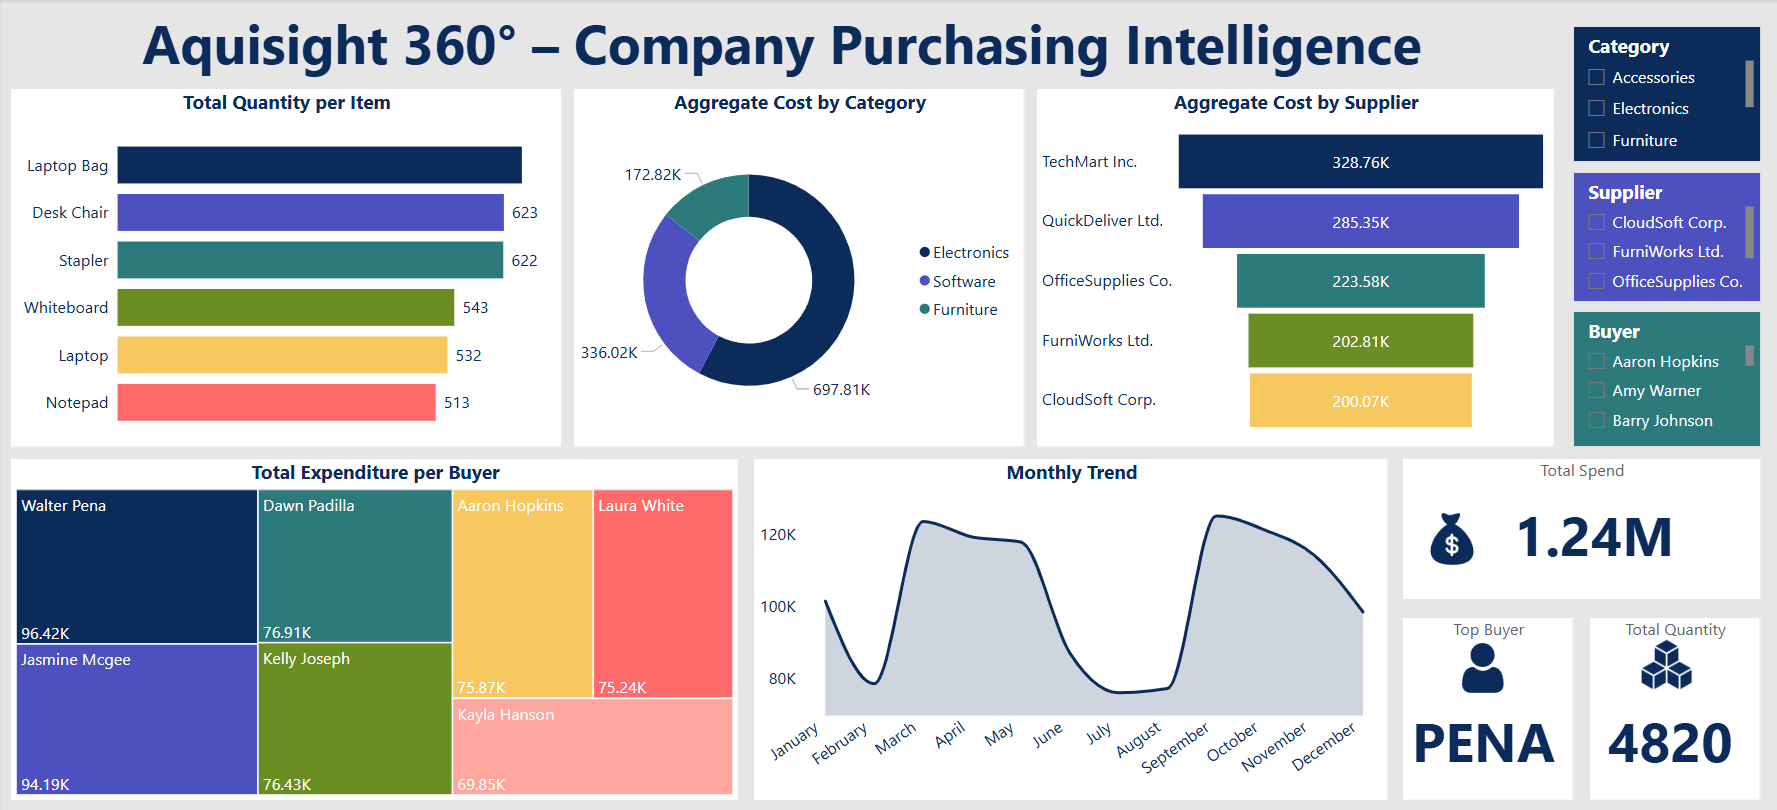

What the dashboard file says about the page in this screenshot:
{"tool":"powerbi","page":{"name":"Dasboard","canvas":[1750,800],"ordinal":0},"visuals":[{"type":"textbox","box":[9.3,0,1521.3,98.4],"z":0},{"type":"treemap","title":"Total Expenditure per Buyer","fields":{"Group":["spend_analysis_dataset.Buyer"],"Values":["spend_analysis_dataset.TotalCost"]},"box":[8.9,452.3,718.3,338],"z":1000},{"type":"barChart","title":"Total Quantity per Item","fields":{"Category":["spend_analysis_dataset.ItemName"],"Y":["spend_analysis_dataset.Quantity"]},"box":[8.9,87.7,543.9,353.7],"z":2000},{"type":"funnel","title":"Aggregate Cost by Supplier","fields":{"Category":["spend_analysis_dataset.Supplier"],"Y":["spend_analysis_dataset.TotalCost"]},"box":[1019.9,87.8,510.6,353.7],"z":3000},{"type":"donutChart","title":"Aggregate Cost by Category","fields":{"Category":["spend_analysis_dataset.Category"],"Y":["spend_analysis_dataset.TotalCost"]},"box":[563.8,87.8,445.5,353.7],"z":4000},{"type":"lineChart","title":"Monthly Trend","fields":{"Category":["spend_analysis_dataset.PurchaseDate.Variation.Date Hierarchy.Month"],"Y":["spend_analysis_dataset.TotalCost"]},"box":[740.7,452.1,626.3,337.8],"z":5000},{"type":"slicer","fields":{"Values":["spend_analysis_dataset.Category"]},"box":[1549.2,26.6,184.8,134.3],"z":6000},{"type":"slicer","fields":{"Values":["spend_analysis_dataset.Supplier"]},"box":[1549.2,170.2,184.8,127.7],"z":7000},{"type":"slicer","fields":{"Values":["spend_analysis_dataset.Buyer"]},"box":[1549.2,307.2,184.8,134.3],"z":8000},{"type":"textbox","title":"Total Spend","box":[1380.3,452.1,353.7,139.6],"z":9000},{"type":"textbox","title":"Top Buyer","box":[1380.3,609,168.9,180.9],"z":10000},{"type":"textbox","title":"Total Quantity","box":[1565.2,609,168.9,180.9],"z":11000},{"type":"image","box":[1393.9,501.2,70.8,61.3],"z":12000},{"type":"textbox","box":[1485.8,485.8,185.1,90.8],"z":13000},{"type":"textbox","box":[1385.6,688.7,163.9,90.8],"z":14000},{"type":"image","box":[1434,629.7,60.1,59],"z":15000},{"type":"textbox","box":[1579,688.7,148.6,90.8],"z":16000},{"type":"image","box":[1600.2,622.6,81.4,66],"z":17000}]}

Visuals, with their boxes in screenshot pixels (x1, y1, x2, y2), scaled from the page's 1750x800 canvas onto the 1777x810 screenshot:
textbox: 9, 0, 1554, 100
"Total Expenditure per Buyer" treemap: 9, 458, 738, 800
"Total Quantity per Item" barChart: 9, 89, 561, 447
"Aggregate Cost by Supplier" funnel: 1036, 89, 1554, 447
"Aggregate Cost by Category" donutChart: 572, 89, 1025, 447
"Monthly Trend" lineChart: 752, 458, 1388, 800
slicer - spend_analysis_dataset.Category: 1573, 27, 1761, 163
slicer - spend_analysis_dataset.Supplier: 1573, 172, 1761, 302
slicer - spend_analysis_dataset.Buyer: 1573, 311, 1761, 447
"Total Spend" textbox: 1402, 458, 1761, 599
"Top Buyer" textbox: 1402, 617, 1573, 800
"Total Quantity" textbox: 1589, 617, 1761, 800
image: 1415, 507, 1487, 570
textbox: 1509, 492, 1697, 584
textbox: 1407, 697, 1573, 789
image: 1456, 638, 1517, 697
textbox: 1603, 697, 1754, 789
image: 1625, 630, 1708, 697
